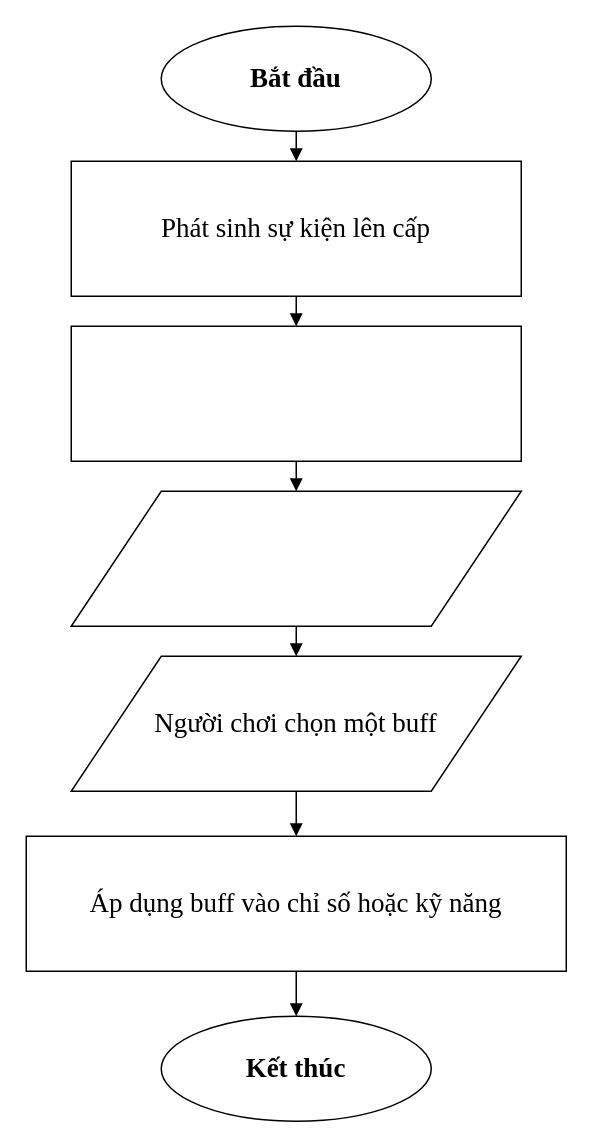
Some shapes in this 593 by 1148 pixel diagram are drawn without their labels. Here are the shapes that lost their labels. From the top down, the centre of each, then its label:
[295,393]: Sinh bộ thẻ buff ngẫu nhiên
[295,558]: Hiển thị bảng chọn buff
